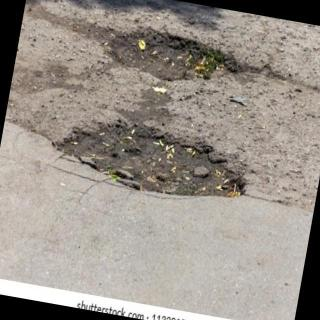pothole: (53, 120, 248, 200), (109, 31, 241, 83)
